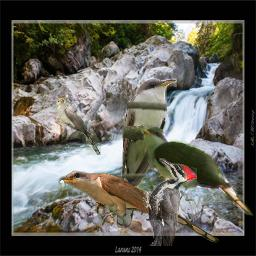Cuckoo: (55, 170, 219, 243), (135, 125, 254, 216), (116, 78, 177, 229), (56, 97, 101, 155)
Woodpecker: (143, 157, 197, 246)
